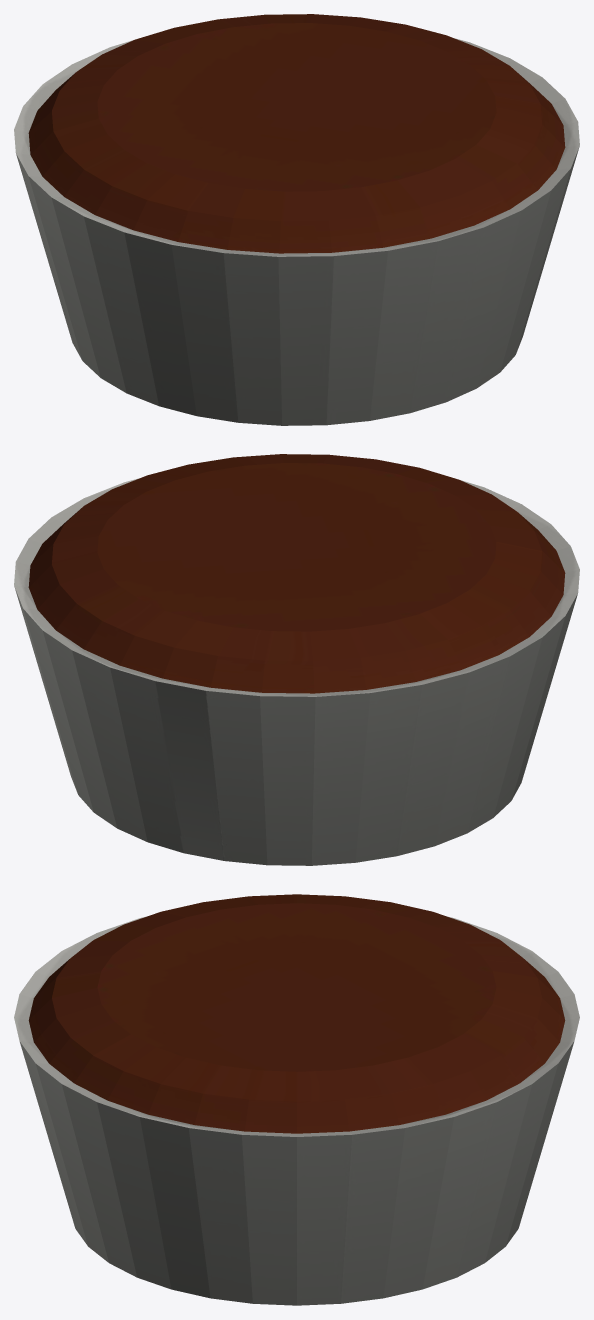
Rendered from chocolatecupcake2.dae.
The picture shows the model from 3 angles, top to bottom: view 1: azimuth 30°, elevation 25°; view 2: azimuth 150°, elevation 25°; view 3: azimuth 270°, elevation 25°; orthographic projection.
Parts seen in each view (by area): view 1: Cylinder; view 2: Cylinder; view 3: Cylinder.
Boxes of the visible parts, <box> form: Cylinder: <box>14,14,579,425</box>; Cylinder: <box>14,454,579,865</box>; Cylinder: <box>14,894,579,1305</box>.
Size of the model in its own units: 1.5 by 1.5 by 0.6517.
1 material, 1 textured.
